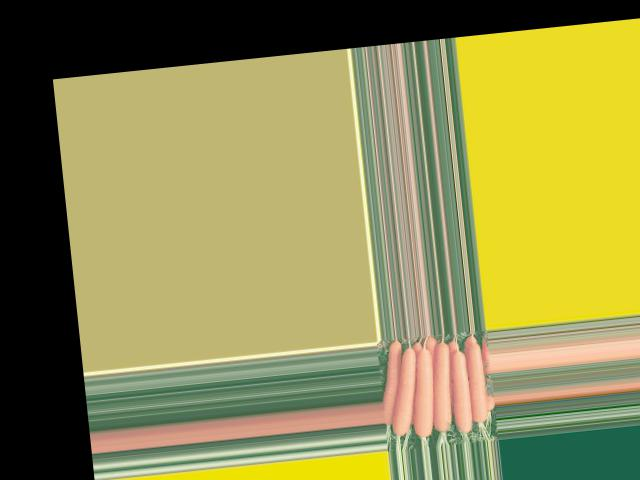carrot: (375, 342, 411, 428)
